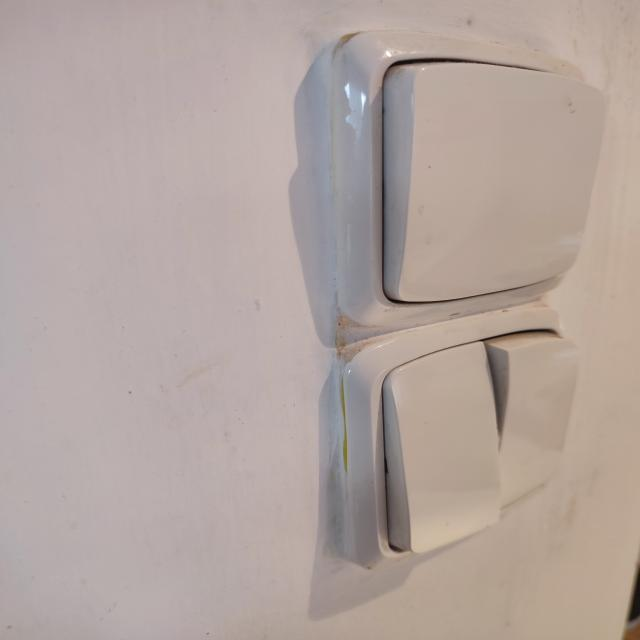house switch: (329, 29, 610, 329)
house switch double: (342, 303, 581, 574)
